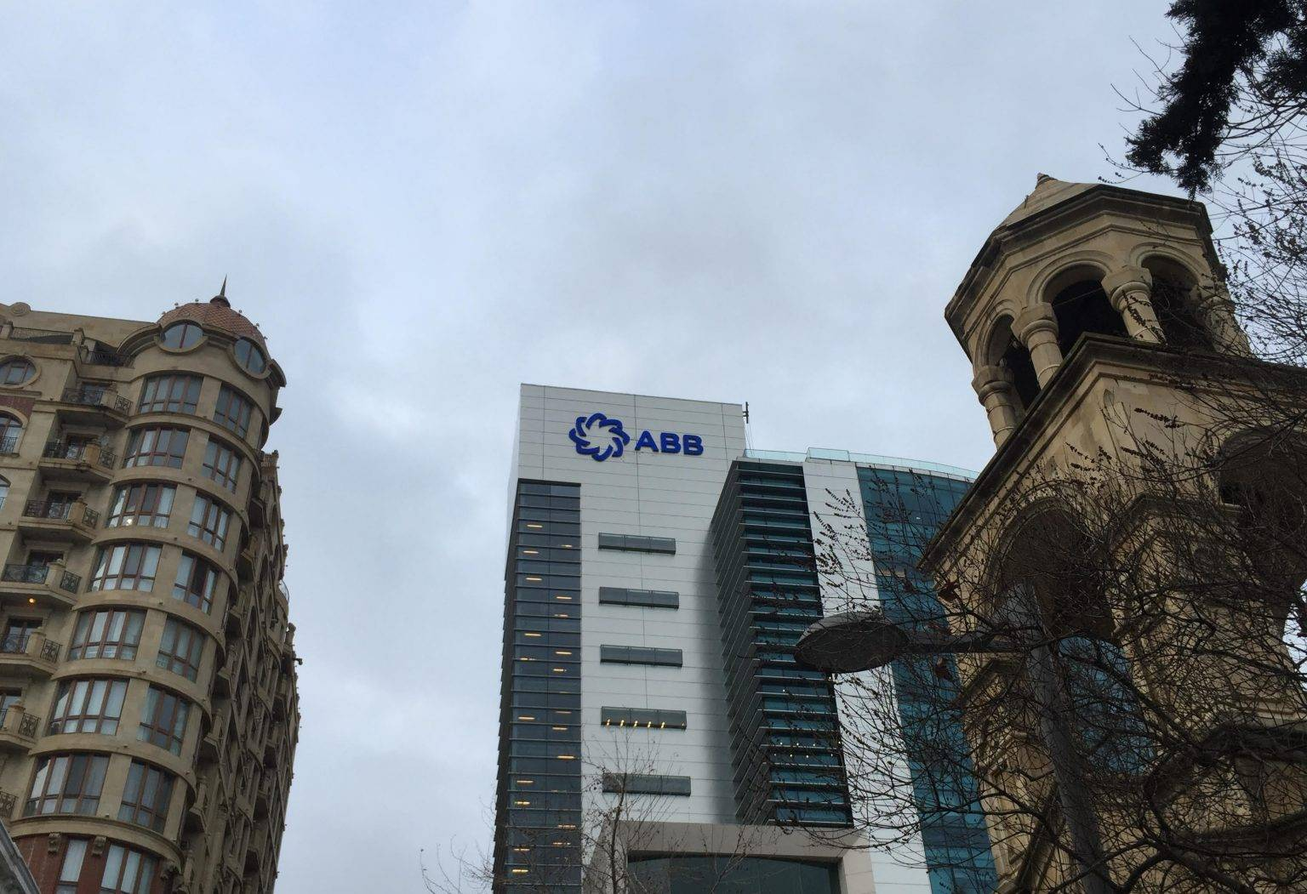ABB: (567, 411, 630, 462)
